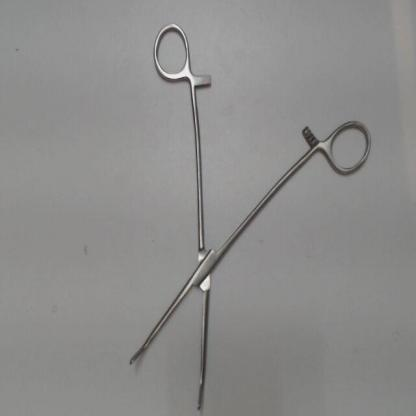Lahey Forceps: (119, 19, 374, 410)
